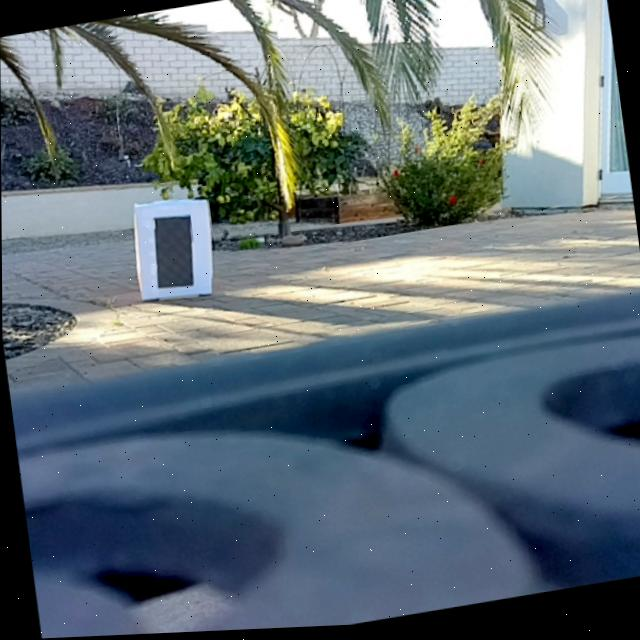led: (150, 214, 195, 292)
